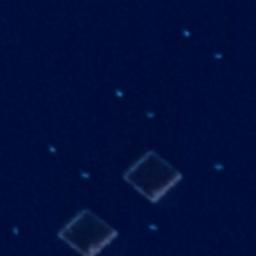square_solid: (119, 147, 184, 208), (54, 203, 122, 256)
